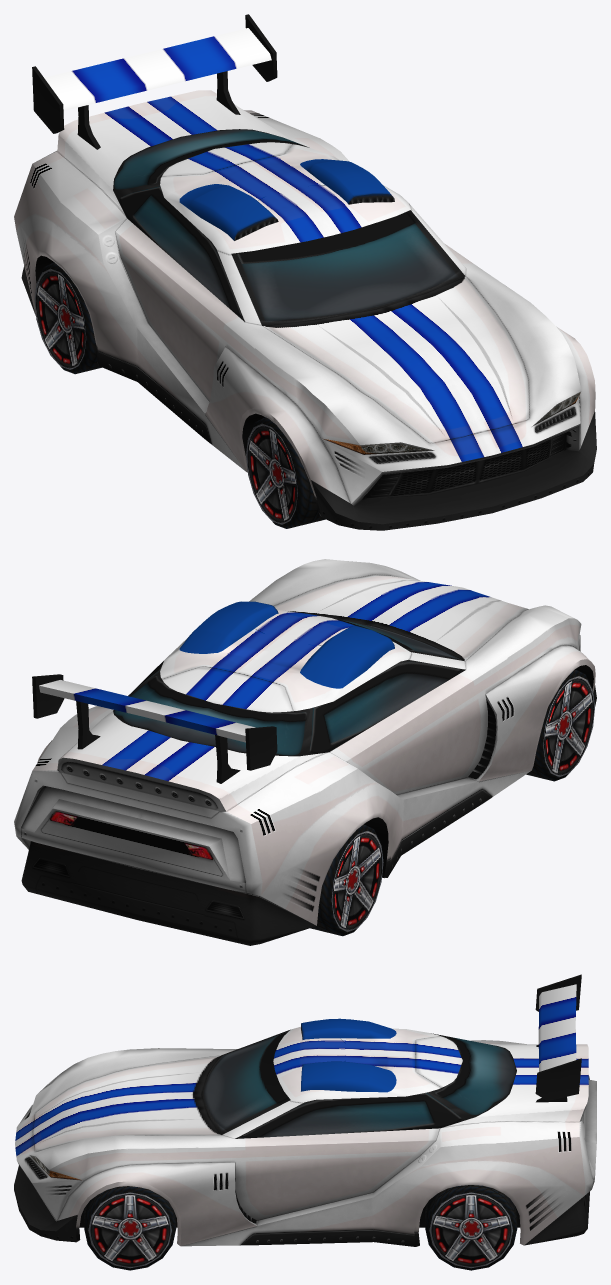
The picture shows the model from 3 angles, top to bottom: view 1: azimuth 30°, elevation 25°; view 2: azimuth 150°, elevation 25°; view 3: azimuth 270°, elevation 25°; orthographic projection. The views are drawn at different scales.
Visible parts, largest first — view 1: player_chassis, veh_wheel_fr, veh_wheel_b; view 2: player_chassis, veh_wheel_b, veh_wheel_fr; view 3: player_chassis, veh_wheel_b, veh_wheel_fl.
Part boxes in pixels (x1,y1,x2,y2): player_chassis: (14,14,596,530); veh_wheel_fr: (246,417,325,528); veh_wheel_b: (34,262,101,374); player_chassis: (14,559,596,945); veh_wheel_b: (310,824,383,936); veh_wheel_fr: (526,669,594,781); player_chassis: (14,974,596,1246); veh_wheel_b: (425,1185,517,1270); veh_wheel_fl: (84,1186,176,1270).
Bounding box in the file's own units: 224 × 165 × 444.
